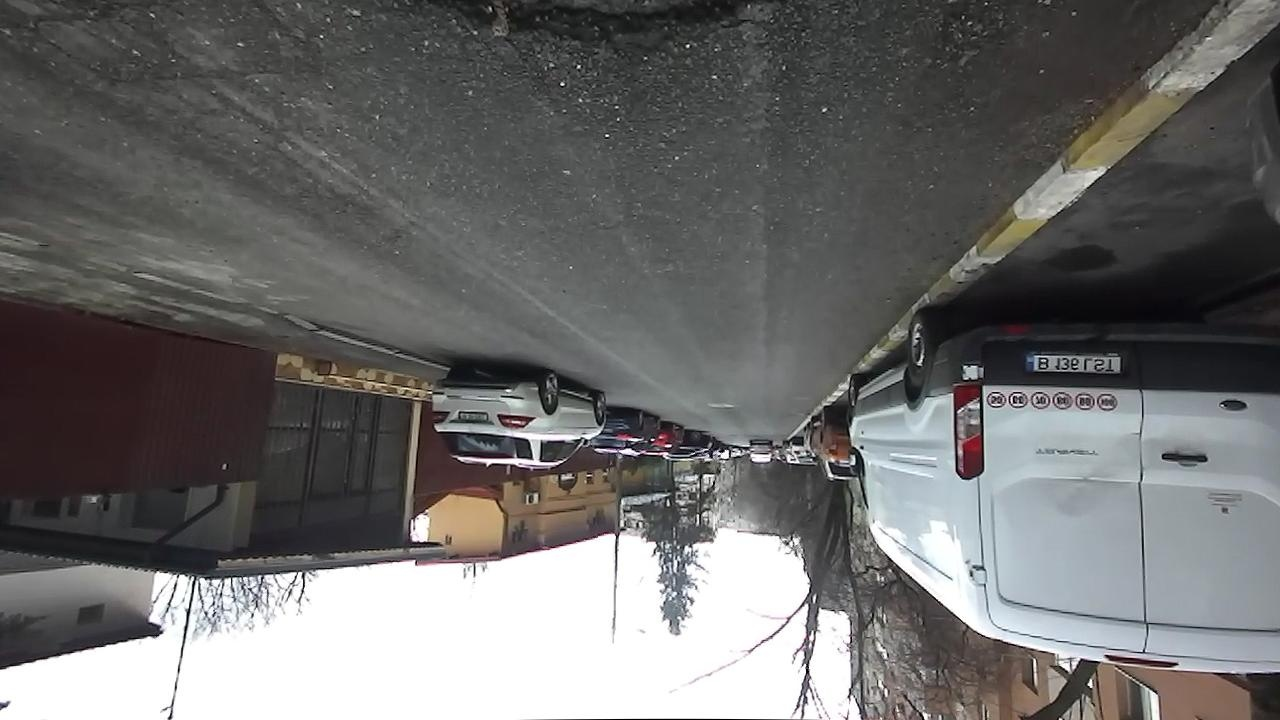pothole: (395, 0, 780, 51)
